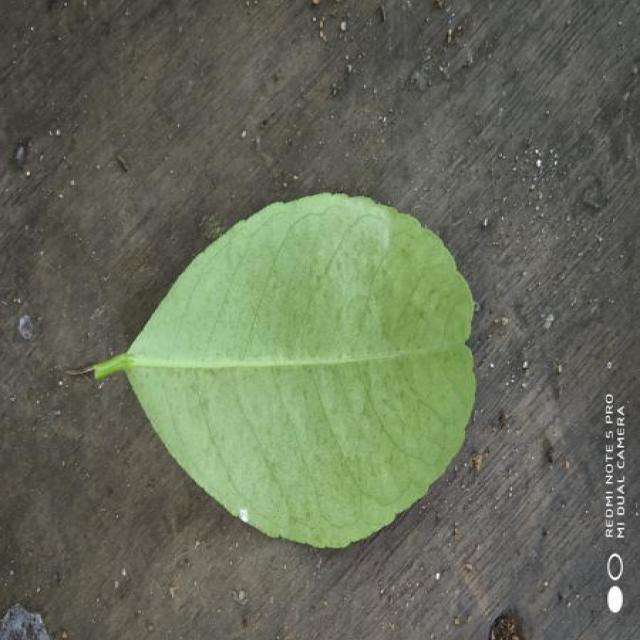citron lime: (93, 194, 475, 548)
